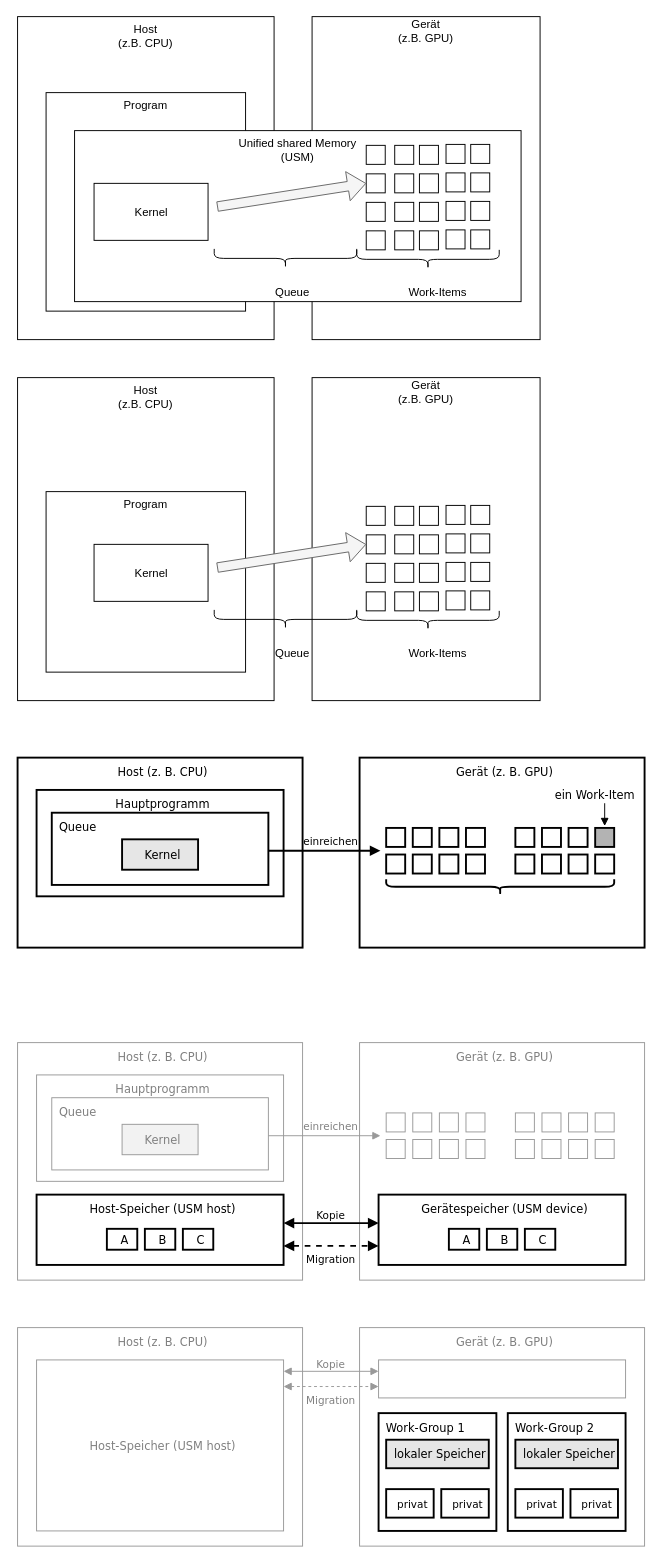
Some shapes in this 661 by 1563 pixel diagram are drawn without their labels. The centre of each missing label's shape, as x and y in pixels:
"globaler Gerätespeicher (USM device)" goes at pixel 502 1378.
"Work-Items im Indexraum" goes at pixel 500 886.
